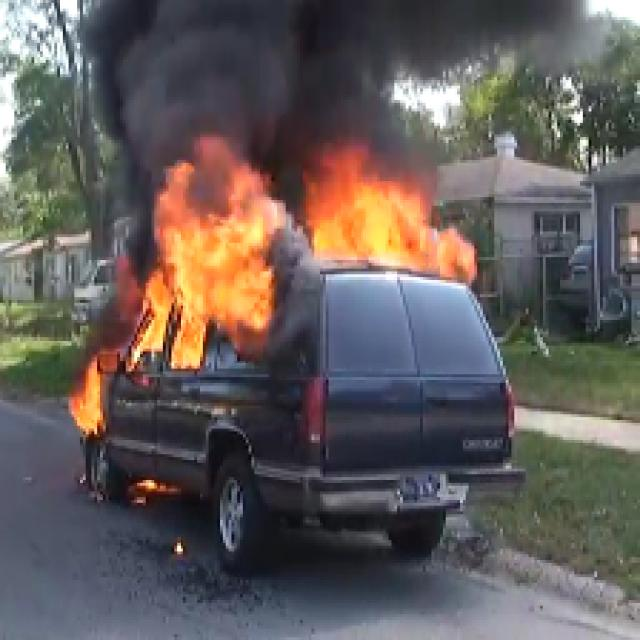fire: (136, 172, 277, 366), (312, 174, 478, 287), (67, 356, 109, 438)
smoke: (91, 0, 602, 139)
